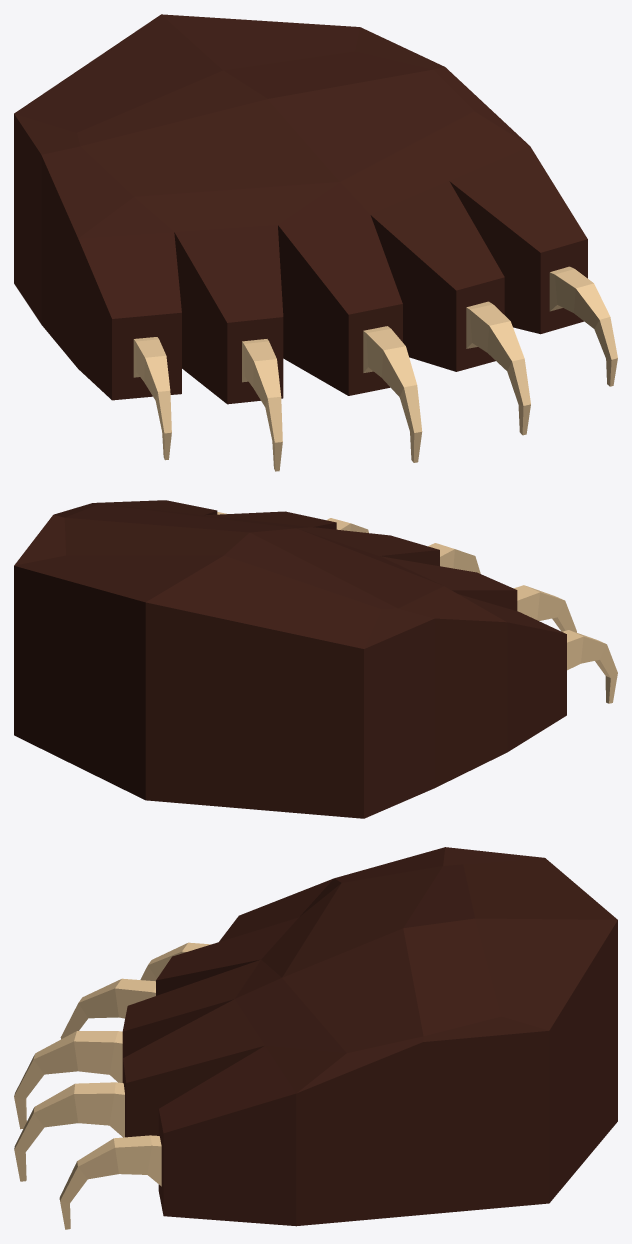
Rendered from Bearclaw.glb.
3 views of the same model, one above another, from view 1: azimuth 30°, elevation 25°; view 2: azimuth 150°, elevation 25°; view 3: azimuth 270°, elevation 25° (orthographic).
Visible parts, largest first — view 1: Geo_BearClaw; view 2: Geo_BearClaw; view 3: Geo_BearClaw.
Part boxes in pixels (x1,y1,x2,y2): Geo_BearClaw: [14, 14, 617, 471]; Geo_BearClaw: [14, 500, 617, 818]; Geo_BearClaw: [14, 847, 617, 1229].
Bounding box in the file's own units: 29.71 × 14.23 × 34.22.
Materials: 1 (1 with a texture image).
